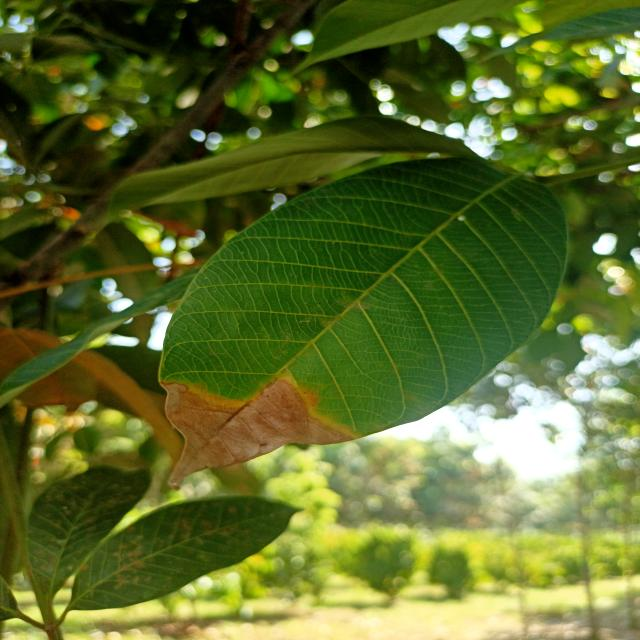Leaf-Blight: (159, 380, 355, 491)
